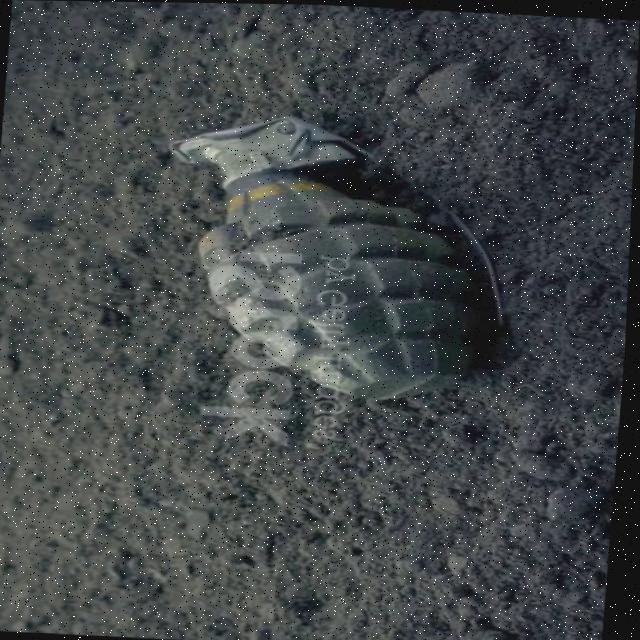grenade: (158, 107, 523, 408)
